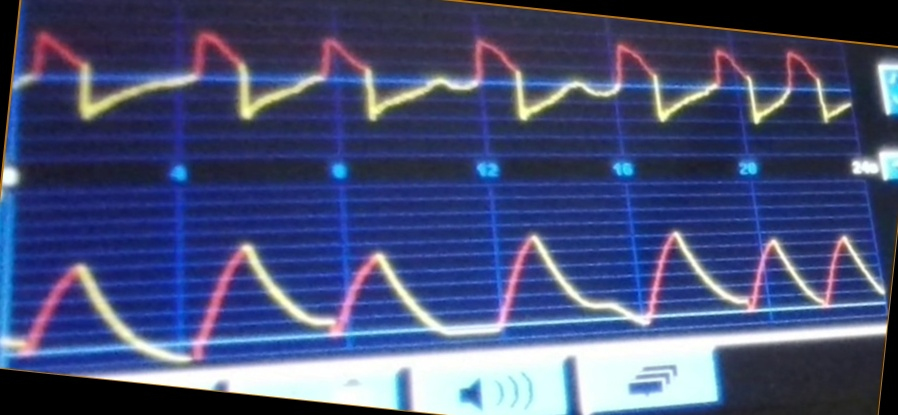Ineffective_effort Flow: (23, 22, 850, 135)
Ineffective_effort Volume: (11, 225, 883, 367)
